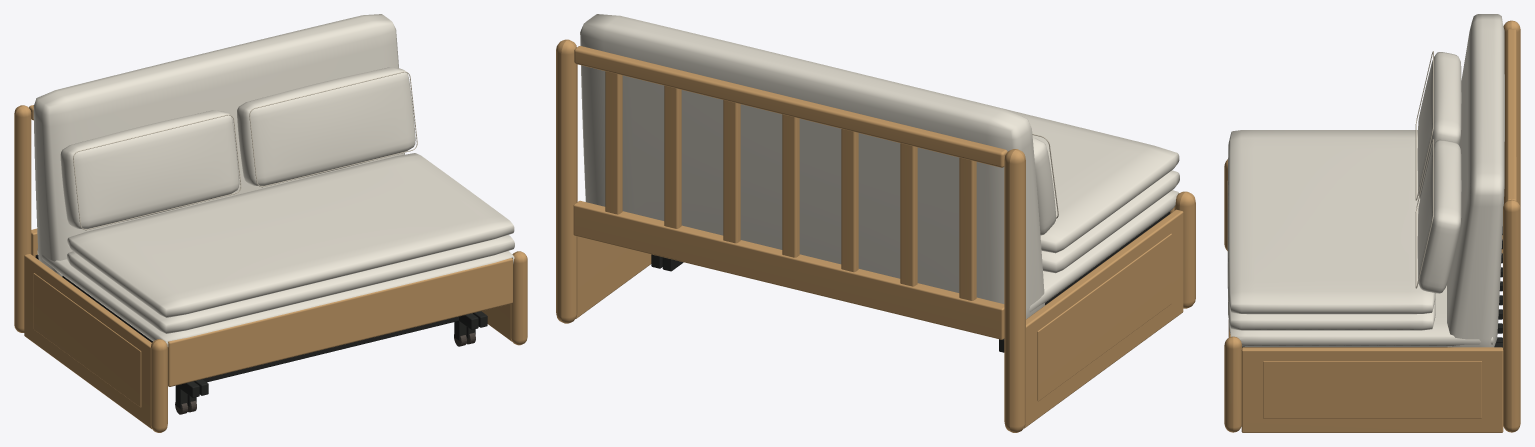
Rendered from sofa-bed-v1.glb.
The picture shows the model from 3 angles, left to right: view 1: azimuth 30°, elevation 25°; view 2: azimuth 150°, elevation 25°; view 3: azimuth 270°, elevation 25°; orthographic projection. The views are drawn at different scales.
Parts seen in each view (by area): view 1: seat-upper, back-cushion, front-rail, lumbar-right, lumbar-left, seat-middle, side-inset-left, side-panel-left, seat-lower, back-post-left, front-post-left, front-post-right (+4 smaller); view 2: back-cushion, back-rail, seat-upper, side-inset-left, back-top-rail, side-panel-left, back-post-left, back-post-right, side-panel-right, seat-lower, seat-middle, back-slat-0 (+8 smaller); view 3: seat-upper, back-cushion, side-inset-right, side-panel-right, lumbar-right, seat-lower, back-post-right, lumbar-left, seat-middle, back-top-rail, front-post-right, back-post-left (+4 smaller).
Boxes of the visible parts, box(x1,y1,x2,y2) form: seat-upper: box(67, 153, 514, 317); back-cushion: box(33, 14, 404, 276); front-rail: box(168, 258, 512, 386); lumbar-right: box(237, 67, 415, 186); lumbar-left: box(60, 110, 239, 229); seat-middle: box(67, 235, 514, 333); side-inset-left: box(33, 273, 141, 407); side-panel-left: box(24, 254, 151, 428); seat-lower: box(37, 249, 514, 346); back-post-left: box(14, 105, 31, 332); front-post-left: box(150, 339, 167, 432); front-post-right: box(510, 251, 527, 345); back-cushion: box(580, 14, 1044, 318); back-rail: box(573, 200, 1004, 339); seat-upper: box(893, 81, 1179, 253); side-inset-left: box(1037, 233, 1171, 401); back-top-rail: box(574, 46, 1007, 167); side-panel-left: box(1024, 209, 1183, 428); back-post-left: box(1004, 149, 1025, 432); back-post-right: box(556, 39, 577, 323); side-panel-right: box(575, 236, 651, 318); seat-lower: box(1029, 190, 1178, 312); seat-middle: box(1041, 170, 1179, 273); back-slat-0: box(959, 157, 976, 300); seat-upper: box(1227, 130, 1435, 314); back-cushion: box(1446, 14, 1504, 347); side-inset-right: box(1263, 361, 1481, 418); side-panel-right: box(1241, 347, 1503, 432); lumbar-right: box(1417, 139, 1461, 293); seat-lower: box(1229, 285, 1493, 346); back-post-right: box(1503, 199, 1520, 432); lumbar-left: box(1417, 52, 1461, 199); seat-middle: box(1227, 263, 1435, 330); back-top-rail: box(1506, 29, 1516, 200); front-post-right: box(1224, 336, 1241, 432); back-post-left: box(1503, 20, 1520, 207).
Bounding box in the file's own units: 1.25 × 0.77 × 0.838.
